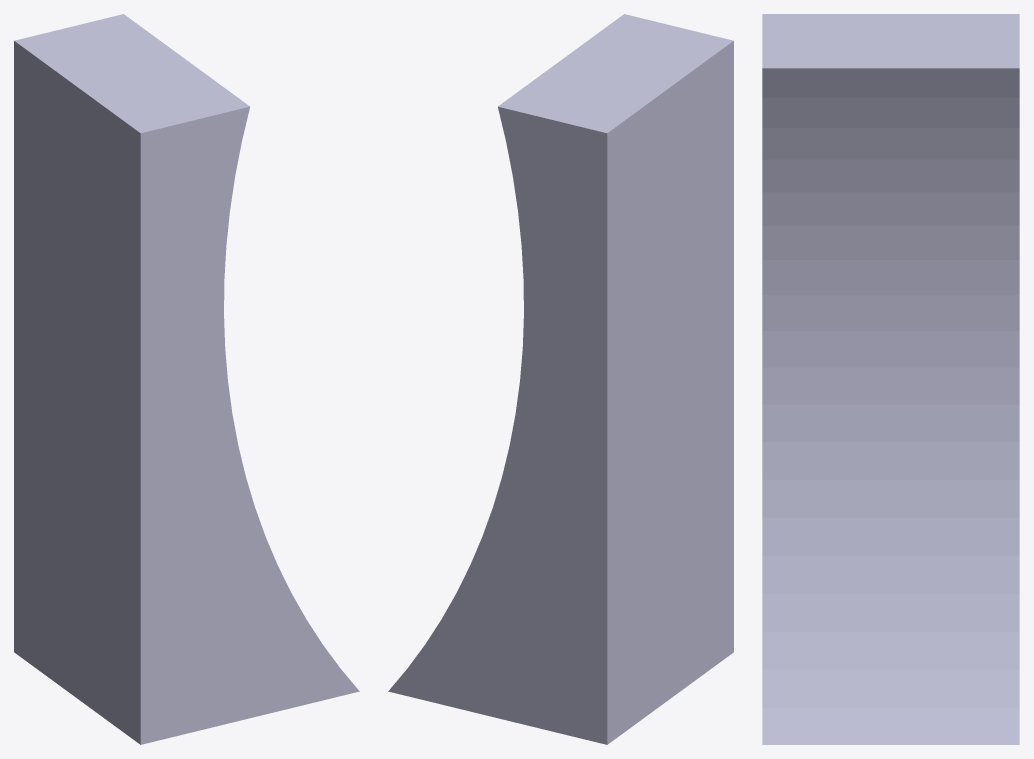
The model's file is Unnamed_finger_body.dae.
The picture shows the model from 3 angles, left to right: view 1: azimuth 30°, elevation 25°; view 2: azimuth 150°, elevation 25°; view 3: azimuth 270°, elevation 25°; orthographic projection.
Visible parts, largest first — view 1: node0; view 2: node0; view 3: node0.
Part boxes in pixels (x1=…): node0: x1=14, y1=14, x2=359, y2=744; node0: x1=388, y1=14, x2=733, y2=744; node0: x1=762, y1=14, x2=1019, y2=744.
Size of the model in its own units: 0.03 by 0.03 by 0.08.
